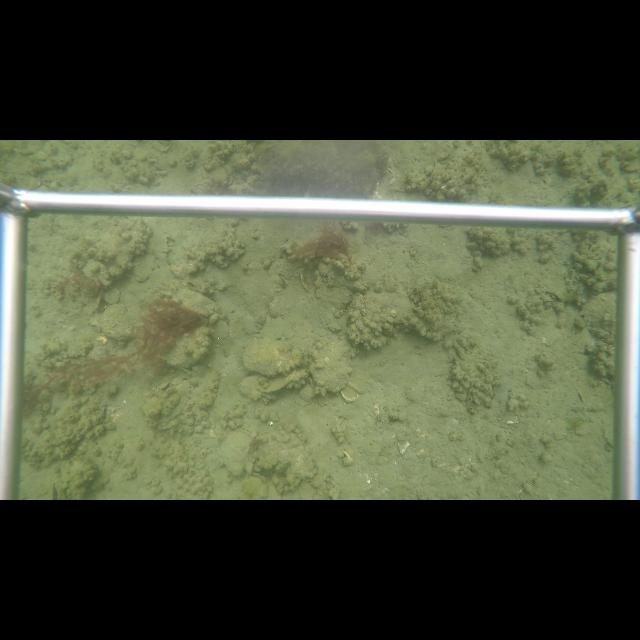Oyster-Closed: (255, 427, 315, 478), (308, 336, 354, 396), (240, 338, 303, 378), (164, 325, 211, 370), (219, 430, 254, 478), (98, 303, 134, 341), (275, 460, 291, 474)
